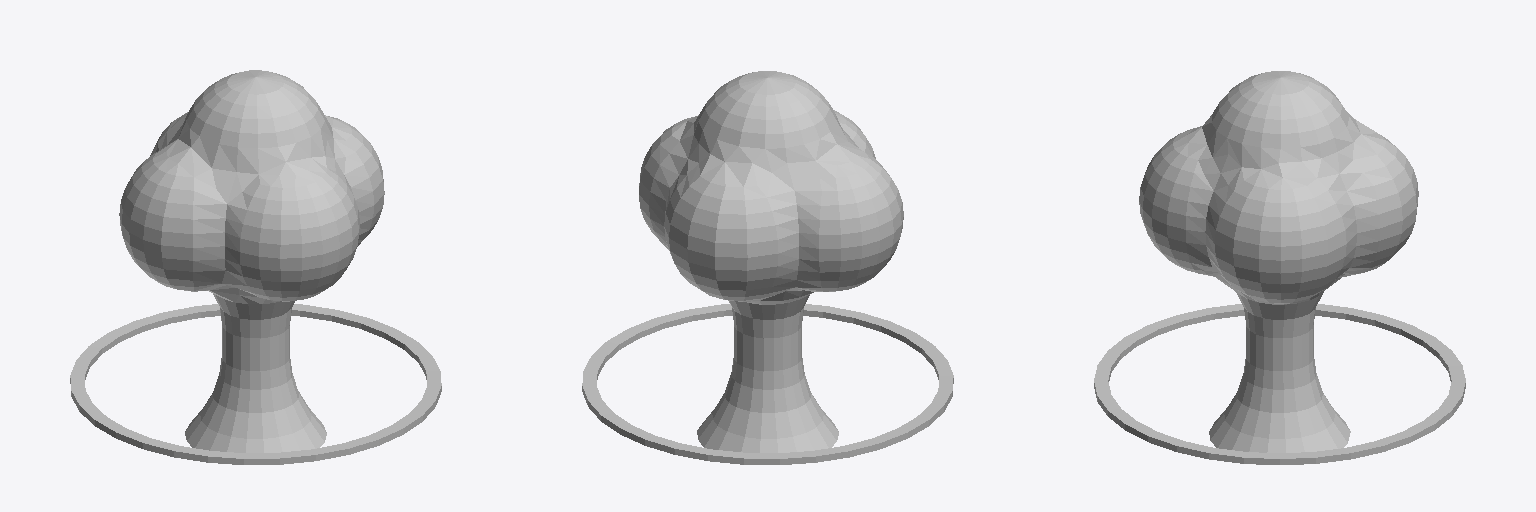
Rendered from MushCloud3.obj.
The picture shows the model from 3 angles: view 1: azimuth 30°, elevation 25°; view 2: azimuth 150°, elevation 25°; view 3: azimuth 270°, elevation 25°; orthographic projection.
Size of the model in its own units: 6.62 by 7.02 by 6.62.